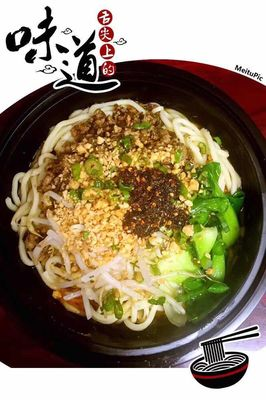burger: (189, 325, 261, 388)
